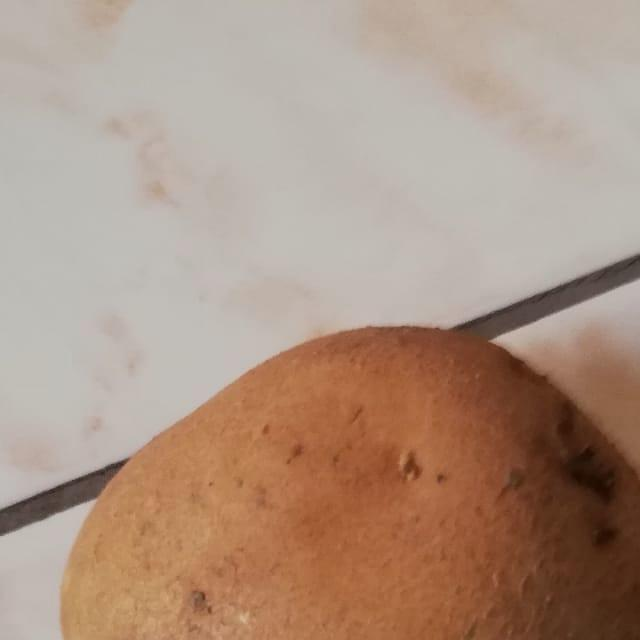potato: (45, 292, 640, 640)
